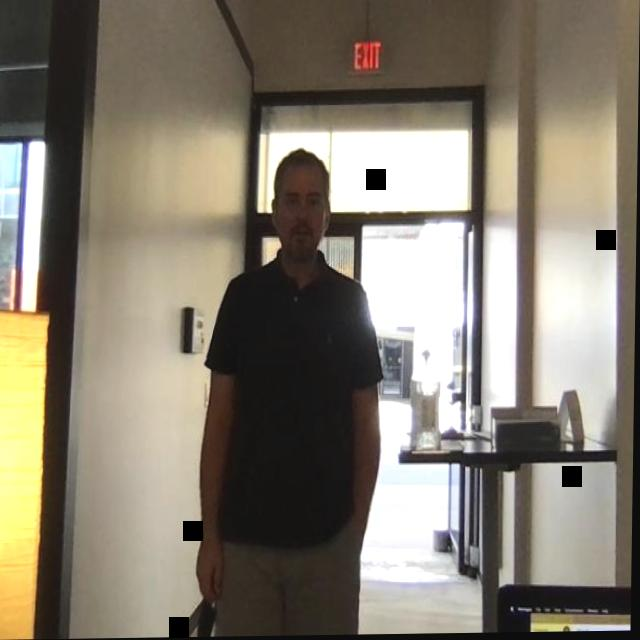NO-Mask: (271, 154, 333, 262)
